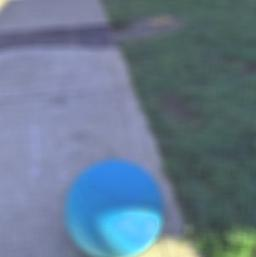algae: (61, 154, 167, 257)
